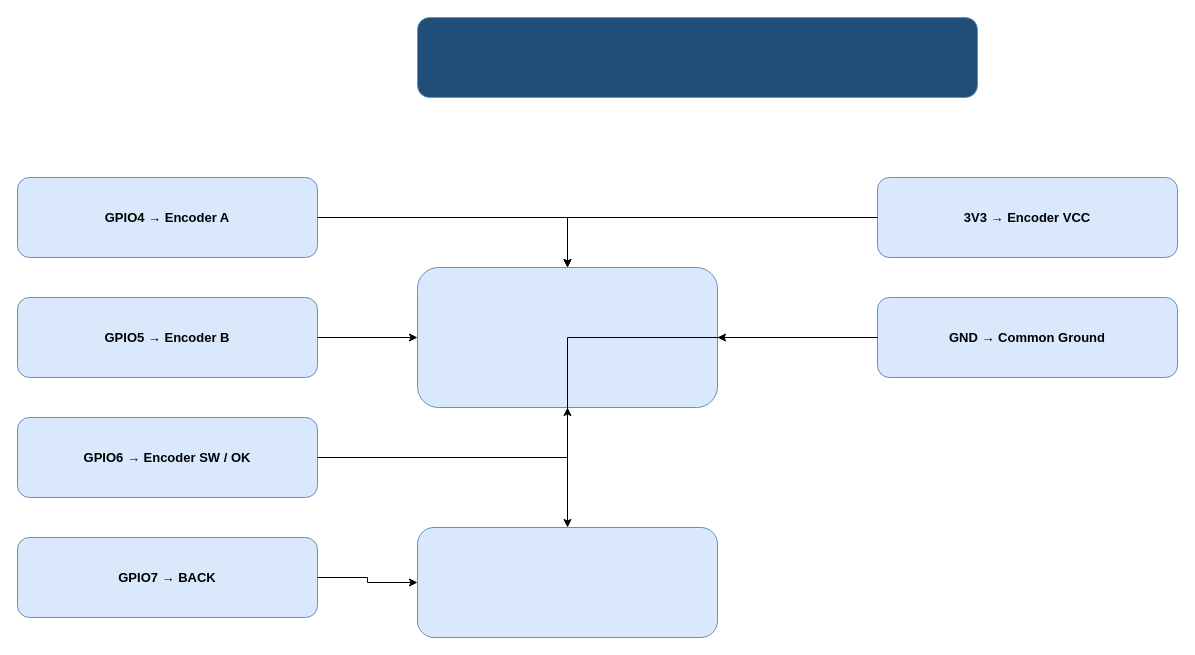
This 1195x655 diagram has some shape labels left out. The shapes that lost their labels are listed below. From the top down, each one's centre as x and y in pixels, then its label:
At point (697, 57): "External EC11 + BACK Button".
At point (567, 337): "EC11 Encoder Internal PULLUP Active Low".
At point (567, 582): "BACK Button GPIO7 → GND Internal PULLUP".
